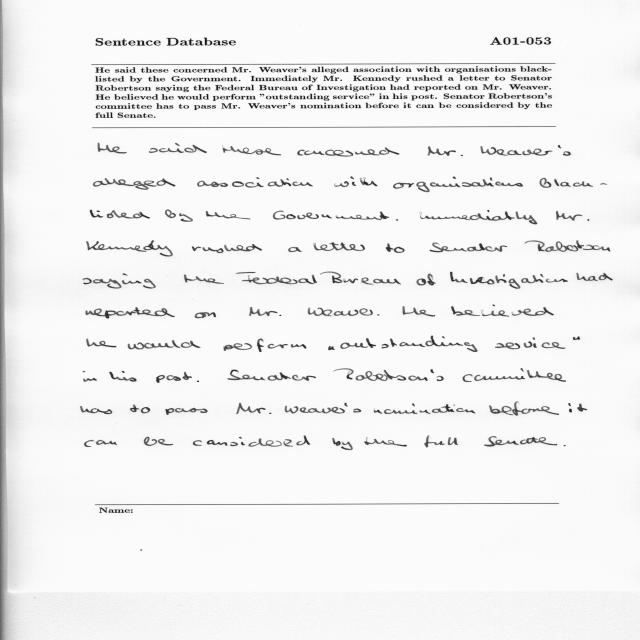word: (341, 336, 478, 352), (450, 272, 568, 289), (393, 177, 523, 192), (421, 210, 538, 224), (463, 368, 566, 382), (334, 368, 444, 381), (87, 241, 173, 257), (193, 436, 310, 447), (197, 177, 313, 188), (83, 273, 156, 289), (451, 305, 554, 316), (224, 339, 307, 352), (227, 369, 316, 381), (321, 272, 402, 285), (273, 211, 389, 220), (525, 240, 611, 252), (298, 147, 400, 157), (374, 404, 475, 414), (480, 145, 571, 156), (94, 178, 176, 190), (489, 402, 559, 416), (86, 307, 175, 318), (236, 272, 317, 284), (495, 338, 565, 350), (285, 403, 361, 414), (484, 436, 557, 447), (430, 243, 507, 253), (128, 340, 200, 350), (540, 178, 607, 188), (192, 244, 262, 253), (308, 308, 373, 317), (149, 143, 207, 153), (90, 210, 150, 219), (223, 146, 281, 155), (314, 242, 365, 251), (334, 177, 378, 187), (364, 437, 407, 447), (424, 436, 458, 448), (156, 372, 192, 383), (236, 403, 272, 414), (403, 306, 436, 317), (184, 275, 224, 284), (206, 211, 250, 219), (428, 146, 463, 156), (556, 211, 590, 221), (165, 210, 193, 222), (109, 371, 137, 382), (249, 307, 282, 316), (576, 273, 613, 281), (166, 408, 208, 415), (98, 143, 127, 153), (144, 436, 173, 446), (81, 406, 113, 414), (332, 438, 353, 450), (416, 274, 436, 286), (87, 339, 116, 347), (85, 440, 117, 447), (386, 243, 405, 253), (130, 405, 150, 414), (569, 403, 588, 412), (83, 371, 97, 382), (195, 312, 216, 318), (288, 247, 302, 252), (328, 346, 335, 350), (573, 336, 580, 340), (396, 219, 398, 221), (377, 314, 379, 316), (197, 381, 199, 382), (564, 445, 566, 446)
